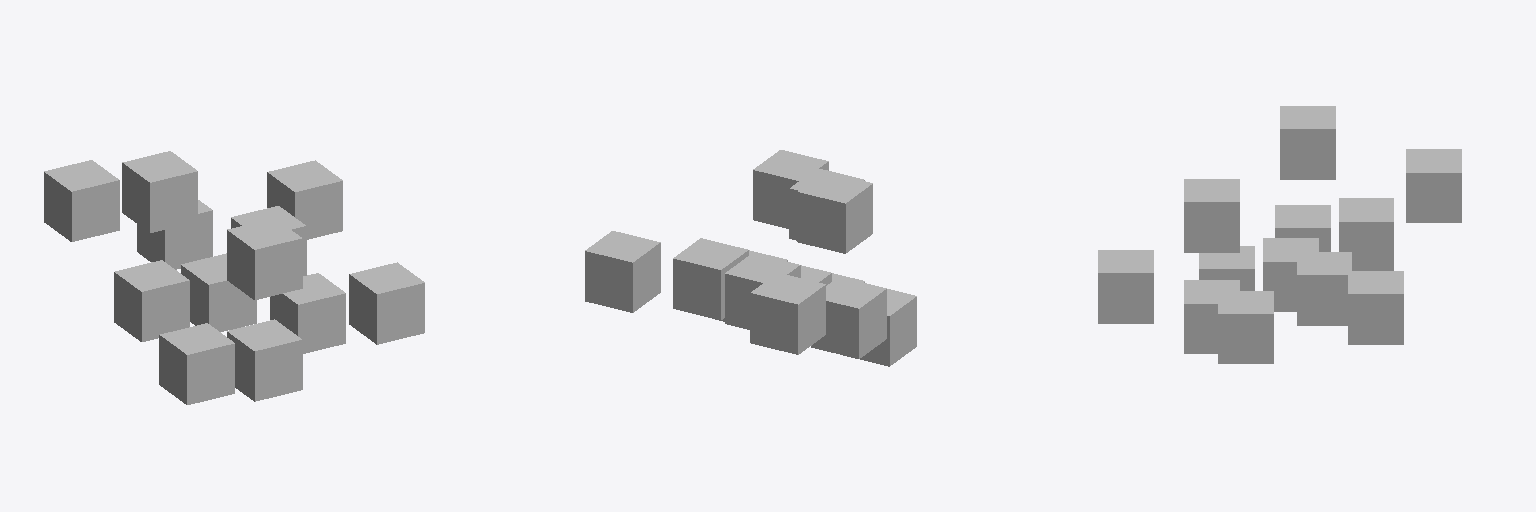
File: boxes.obj
The picture shows the model from 3 angles: view 1: azimuth 30°, elevation 25°; view 2: azimuth 150°, elevation 25°; view 3: azimuth 270°, elevation 25°; orthographic projection.
Parts seen in each view (by area): view 1: Cube.009, Cube.010, Cube.007, Cube.008, Cube.005, Cube.001, Cube.006, Cube.012, Cube.004, Cube, Cube.002, Cube.003; view 2: Cube.012, Cube.009, Cube.008, Cube.001, Cube.003, Cube.010, Cube.002, Cube.005, Cube.007; view 3: Cube.012, Cube.010, Cube.009, Cube.008, Cube.007, Cube.004, Cube.003, Cube.002, Cube.006, Cube, Cube.001, Cube.005.
Part boxes in pixels (bbox=[...]): Cube.009: bbox=[44, 160, 119, 241]; Cube.010: bbox=[349, 262, 424, 344]; Cube.007: bbox=[227, 218, 302, 299]; Cube.008: bbox=[122, 151, 197, 232]; Cube.005: bbox=[159, 323, 234, 404]; Cube.001: bbox=[114, 260, 189, 341]; Cube.006: bbox=[227, 319, 302, 401]; Cube.012: bbox=[267, 160, 342, 239]; Cube.004: bbox=[270, 273, 345, 353]; Cube: bbox=[181, 253, 256, 331]; Cube.002: bbox=[137, 200, 212, 269]; Cube.003: bbox=[231, 206, 306, 275]; Cube.012: bbox=[585, 231, 660, 312]; Cube.009: bbox=[750, 273, 825, 354]; Cube.008: bbox=[797, 172, 872, 253]; Cube.001: bbox=[811, 277, 886, 358]; Cube.003: bbox=[673, 238, 748, 319]; Cube.010: bbox=[753, 150, 828, 228]; Cube.002: bbox=[725, 253, 800, 329]; Cube.005: bbox=[843, 289, 916, 366]; Cube.007: bbox=[789, 168, 864, 240]; Cube.012: bbox=[1348, 271, 1403, 344]; Cube.010: bbox=[1098, 250, 1153, 323]; Cube.009: bbox=[1406, 149, 1461, 222]; Cube.008: bbox=[1280, 106, 1335, 179]; Cube.007: bbox=[1184, 179, 1239, 252]; Cube.004: bbox=[1218, 291, 1273, 363]; Cube.003: bbox=[1297, 252, 1351, 325]; Cube.002: bbox=[1339, 198, 1393, 270]; Cube.006: bbox=[1184, 280, 1239, 353]; Cube: bbox=[1263, 238, 1318, 311]; Cube.001: bbox=[1275, 205, 1330, 251]; Cube.005: bbox=[1199, 246, 1254, 290].
Size of the model in its own units: 10.07 by 7.83 by 13.07.